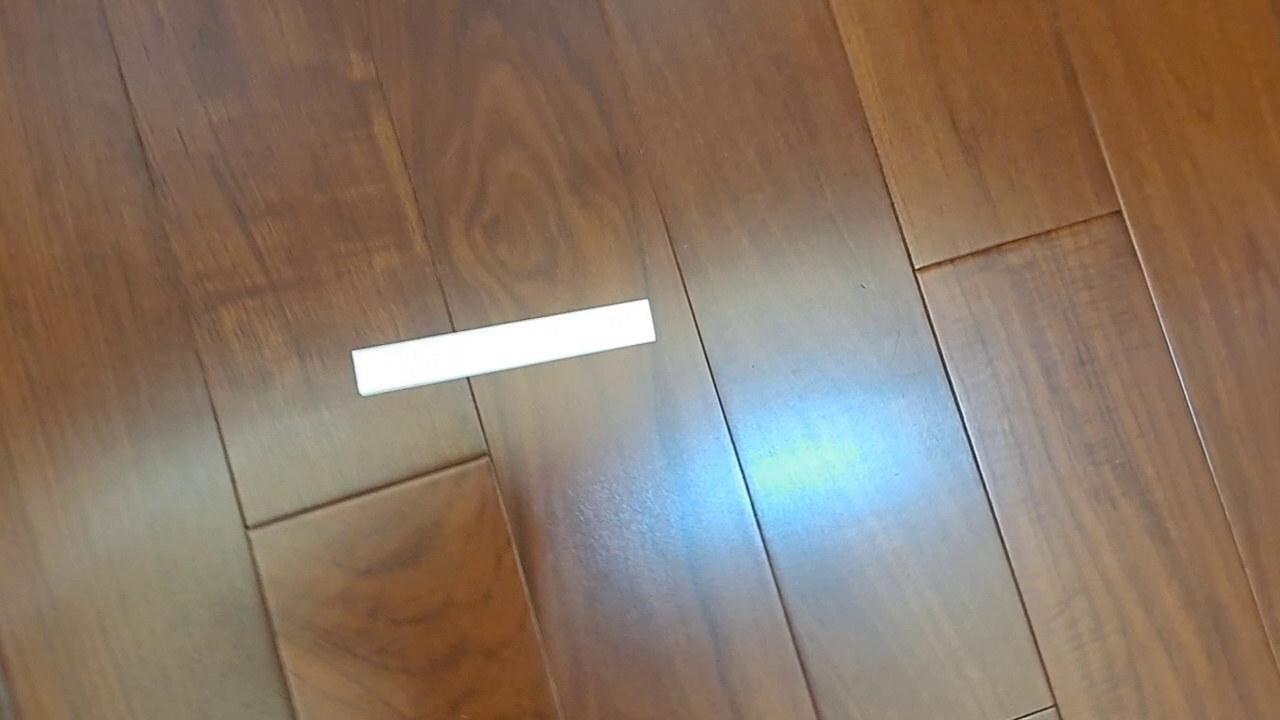ruler: (350, 297, 657, 398)
